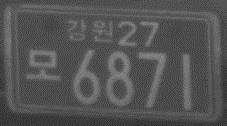1: (175, 54, 203, 111)
2: (117, 20, 137, 46)
6: (71, 50, 101, 104)
7: (137, 51, 167, 108), (139, 20, 159, 46)
8: (106, 50, 135, 106)
강원_O: (66, 18, 113, 42)
모: (25, 48, 61, 81)
